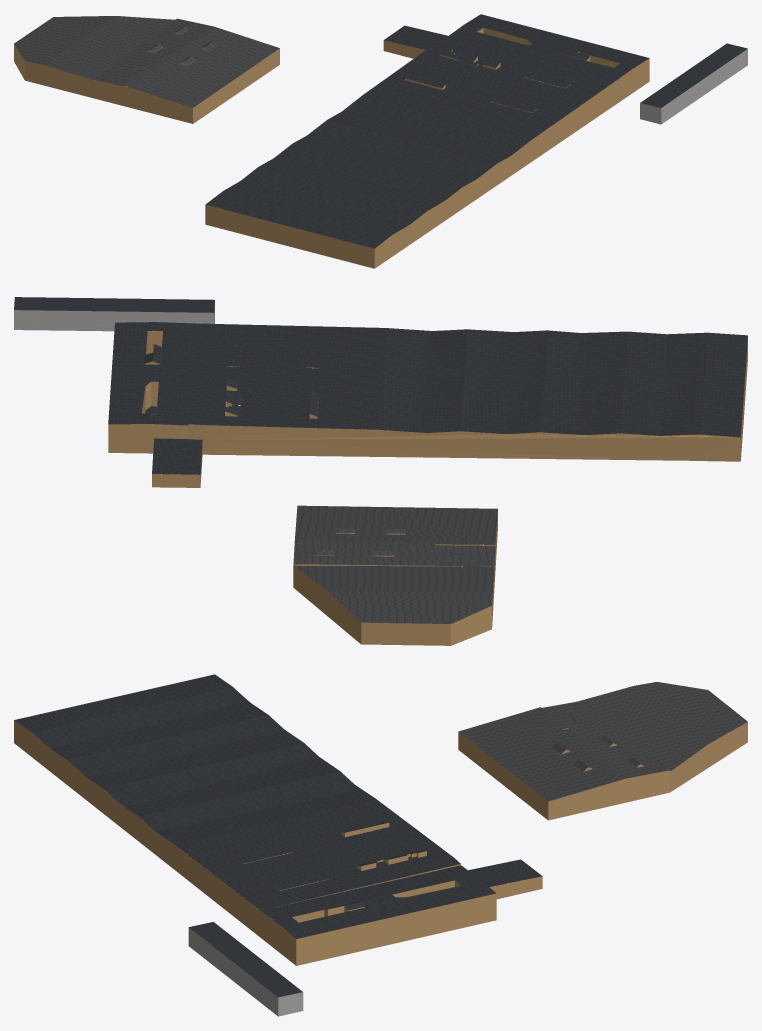
The picture shows the model from 3 angles, top to bottom: view 1: azimuth 30°, elevation 25°; view 2: azimuth 150°, elevation 25°; view 3: azimuth 270°, elevation 25°; orthographic projection. The views are drawn at different scales.
Visible parts, largest first — view 1: bldg_6008396683_roof, bldg_6004580888_roof, bldg_6008396683, bldg_6004580888, bldg_6004170024, bldg_6004170024_roof; view 2: bldg_6008396683_roof, bldg_6004580888_roof, bldg_6008396683, bldg_6004580888, bldg_6004170024, bldg_6004170024_roof; view 3: bldg_6008396683_roof, bldg_6004580888_roof, bldg_6008396683, bldg_6004580888, bldg_6004170024_roof, bldg_6004170024.
Boxes of the visible parts, x1=… form: bldg_6008396683_roof: x1=206, y1=14, x2=649, y2=248; bldg_6004580888_roof: x1=14, y1=16, x2=279, y2=107; bldg_6008396683: x1=205, y1=27, x2=649, y2=268; bldg_6004580888: x1=14, y1=29, x2=279, y2=123; bldg_6004170024: x1=640, y1=49, x2=747, y2=124; bldg_6004170024_roof: x1=640, y1=43, x2=747, y2=107; bldg_6008396683_roof: x1=108, y1=322, x2=747, y2=474; bldg_6004580888_roof: x1=293, y1=505, x2=497, y2=623; bldg_6008396683: x1=108, y1=322, x2=747, y2=487; bldg_6004580888: x1=293, y1=511, x2=497, y2=645; bldg_6004170024: x1=14, y1=305, x2=214, y2=331; bldg_6004170024_roof: x1=14, y1=297, x2=214, y2=312; bldg_6008396683_roof: x1=14, y1=674, x2=542, y2=938; bldg_6004580888_roof: x1=459, y1=682, x2=747, y2=801; bldg_6008396683: x1=14, y1=701, x2=542, y2=965; bldg_6004580888: x1=458, y1=722, x2=747, y2=820; bldg_6004170024_roof: x1=189, y1=922, x2=302, y2=997; bldg_6004170024: x1=188, y1=927, x2=303, y2=1016.
Bounding box in the file's own units: 239 × 11.34 × 232.
Materials: 5 (5 with a texture image).
